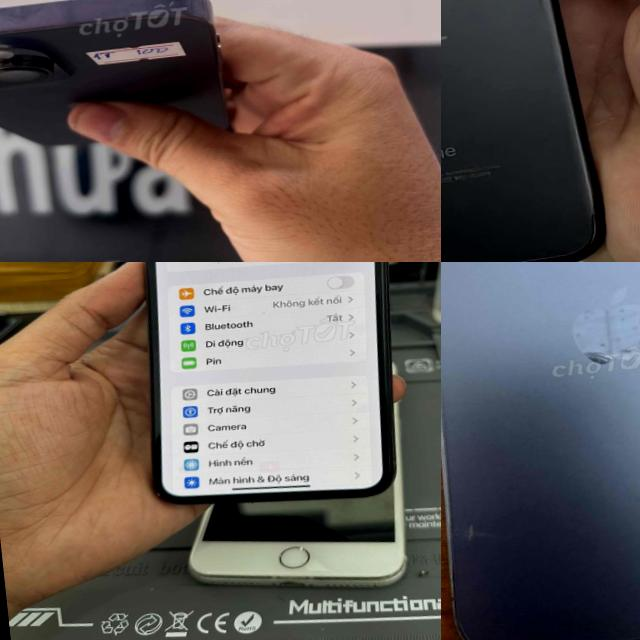gen_14: (441, 262, 640, 640), (0, 0, 246, 190)
gen_7_8: (441, 0, 624, 262)
gen_x_xs: (145, 262, 396, 503)
